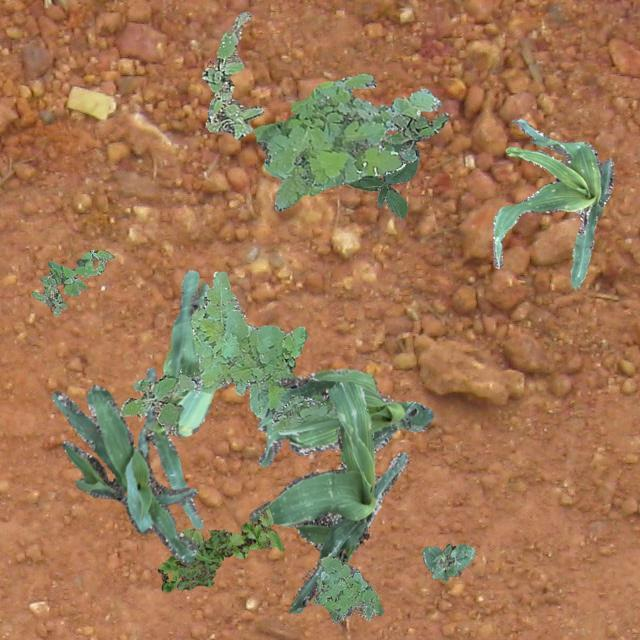crop: (248, 376, 408, 612), (50, 384, 200, 564), (492, 119, 614, 288), (136, 270, 212, 528), (256, 368, 432, 468), (344, 142, 418, 218), (420, 542, 474, 580), (378, 104, 392, 150)
weed: (252, 72, 440, 210), (172, 270, 334, 430), (156, 506, 284, 592), (200, 10, 262, 138), (30, 248, 114, 316), (312, 556, 382, 622), (118, 374, 182, 434), (382, 111, 448, 162), (176, 528, 232, 588)
